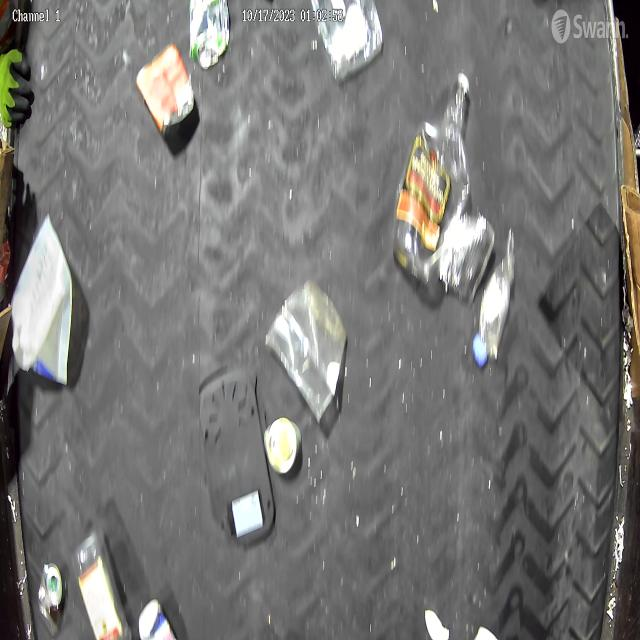can: (136, 43, 194, 137), (436, 213, 496, 297), (188, 0, 230, 71), (264, 417, 303, 473), (38, 558, 66, 634)
plastic_bottle: (395, 72, 469, 282), (74, 530, 132, 640), (475, 225, 517, 367)
